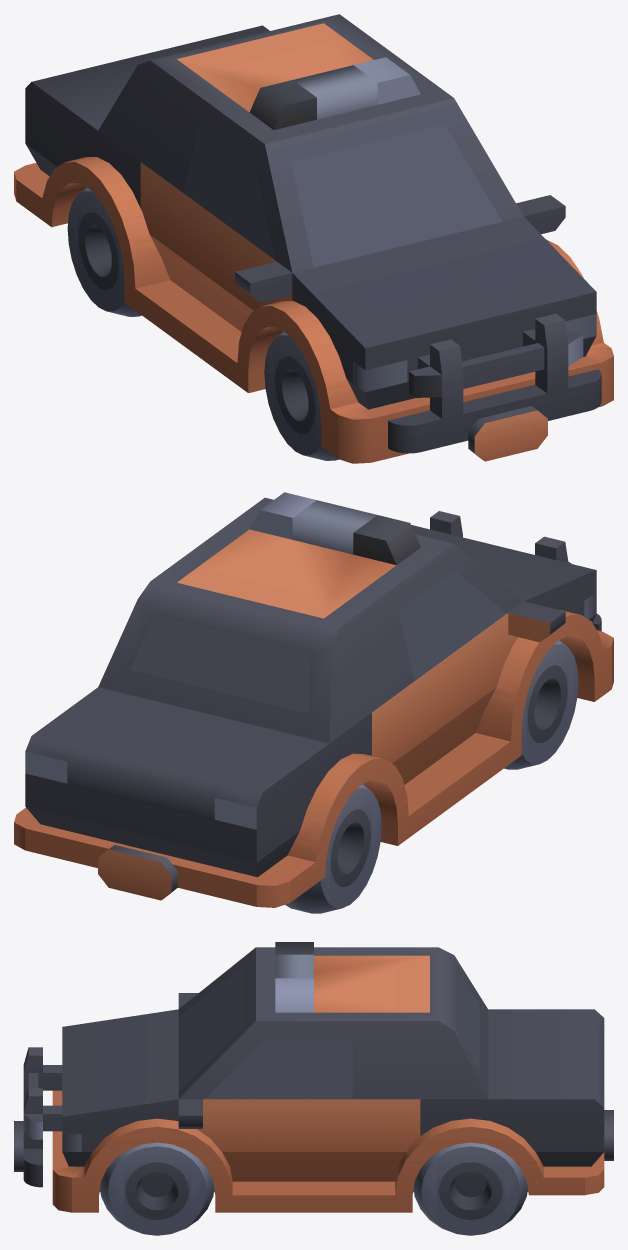
The model's file is police-transformed.glb.
3 views of the same model, one above another, from view 1: azimuth 30°, elevation 25°; view 2: azimuth 150°, elevation 25°; view 3: azimuth 270°, elevation 25° (orthographic). The views are drawn at different scales.
Visible parts, largest first — view 1: wheel-front-left; view 2: wheel-front-left; view 3: wheel-front-left.
Part boxes in pixels (x1,y1,x2,y2): wheel-front-left: (14, 14, 613, 463); wheel-front-left: (14, 492, 613, 913); wheel-front-left: (14, 942, 613, 1235).
Size of the model in its own units: 1.5 by 1.3 by 3.1.
Materials: 1 (1 with a texture image).
